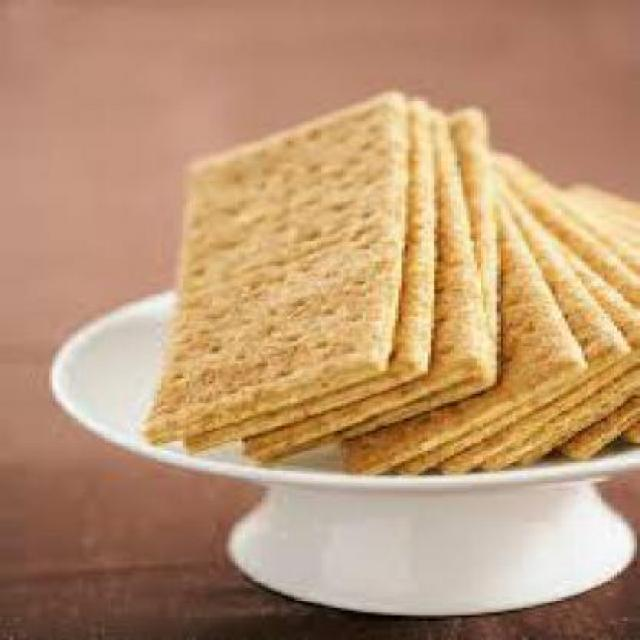Cracker packaged: (146, 102, 402, 418)
